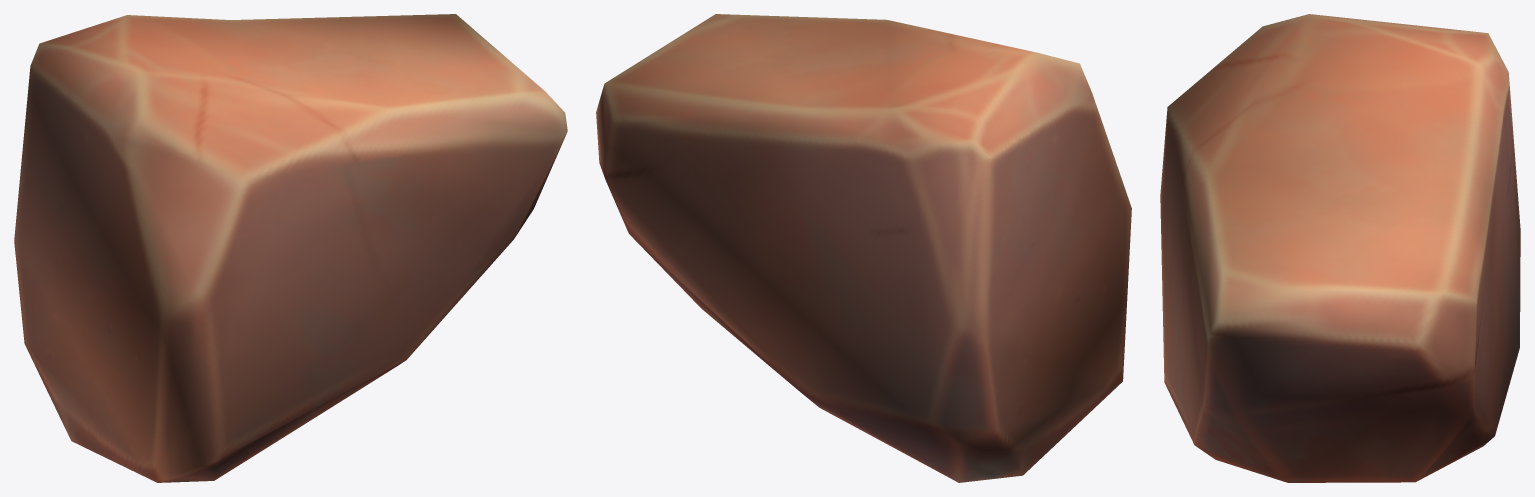
Rendered from SM_Gem_Copper_006.fbx.
3 views of the same model, side by side, from view 1: azimuth 30°, elevation 25°; view 2: azimuth 150°, elevation 25°; view 3: azimuth 270°, elevation 25° (orthographic). The views are drawn at different scales.
Visible parts, largest first — view 1: SM_Gem_Copper_006; view 2: SM_Gem_Copper_006; view 3: SM_Gem_Copper_006.
Part boxes in pixels (left/top/right/bottom): SM_Gem_Copper_006: left=14, top=14, right=567, bottom=482; SM_Gem_Copper_006: left=596, top=14, right=1131, bottom=482; SM_Gem_Copper_006: left=1160, top=14, right=1520, bottom=482.
Size of the model in its own units: 31.24 by 27 by 21.01.
